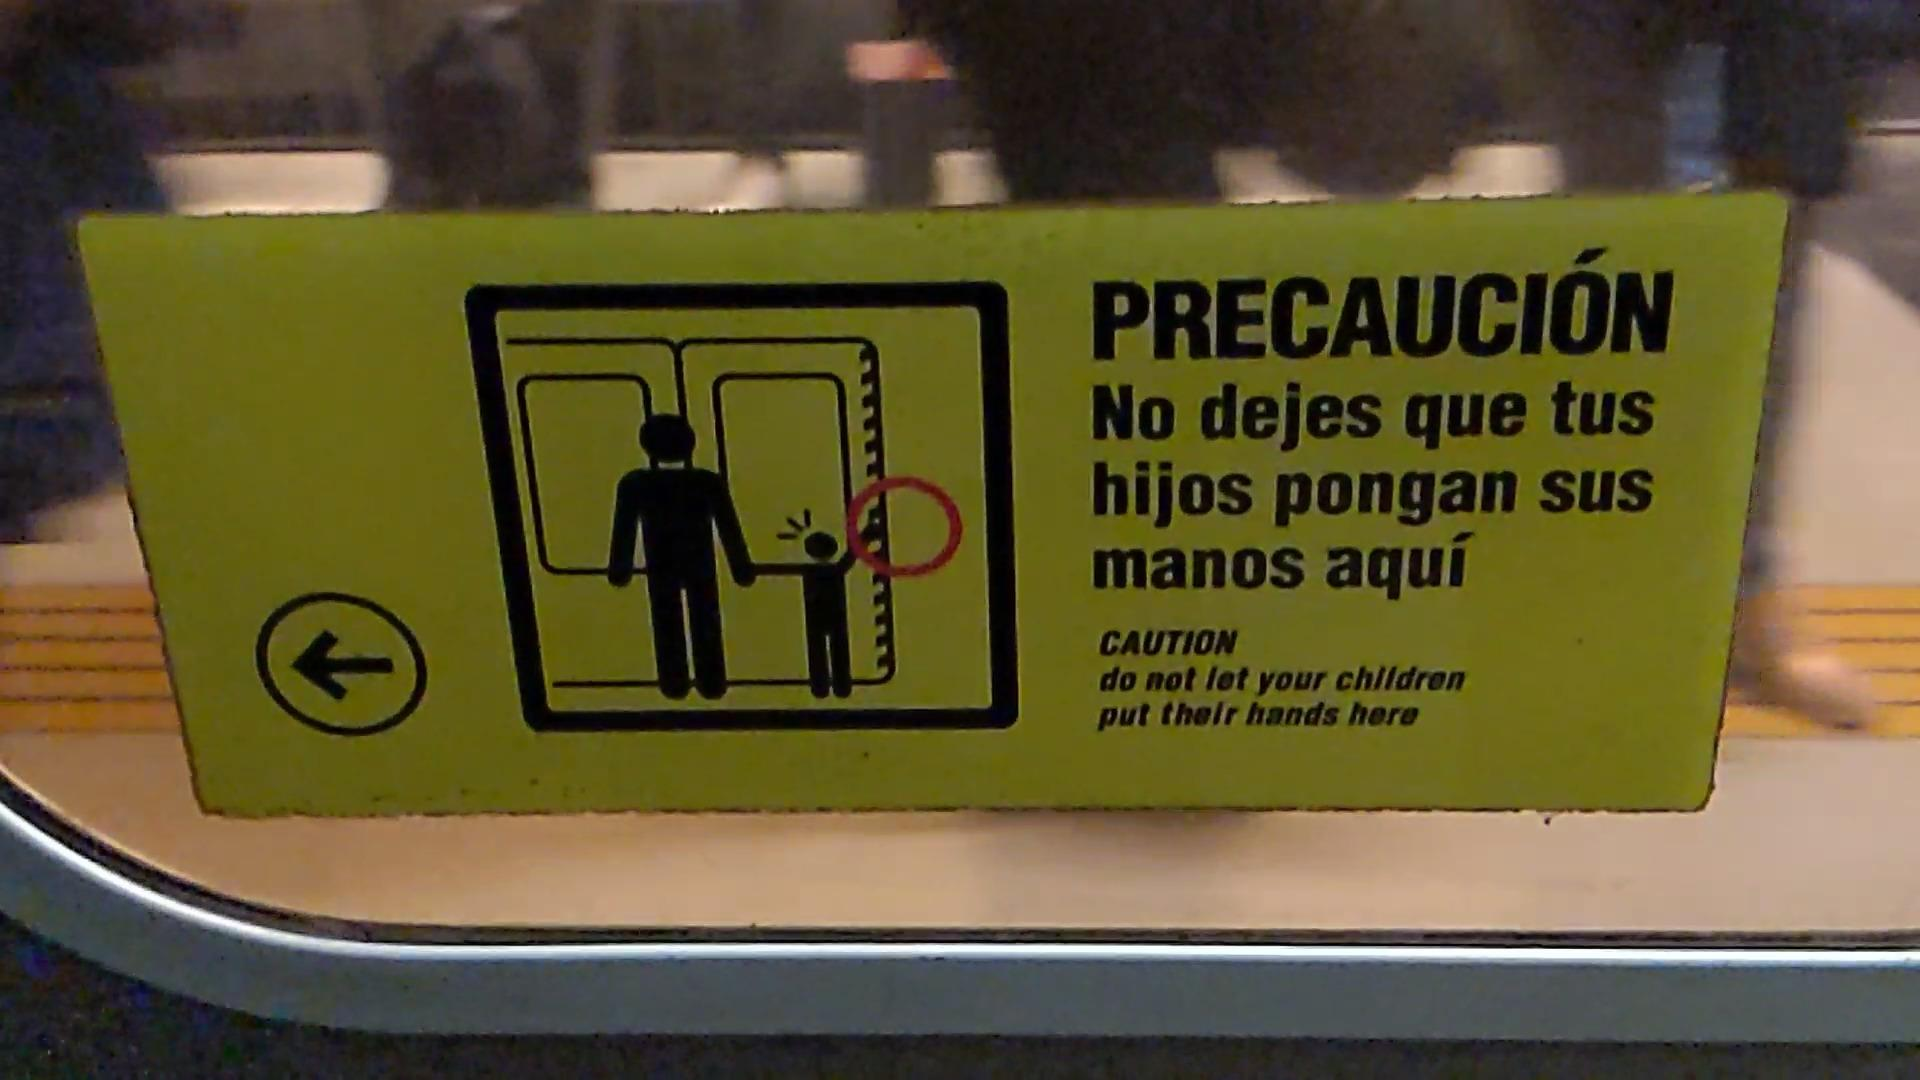left arrow: (286, 625, 402, 703)
